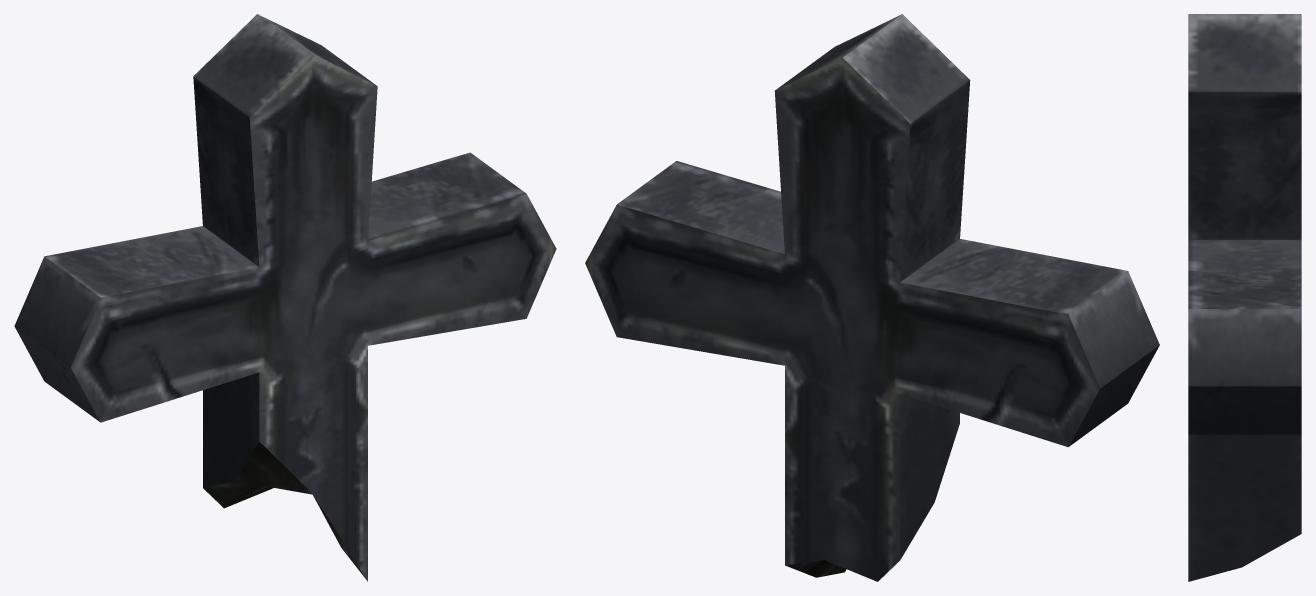
File: C_mubei005.fbx
3 views of the same model, side by side, from view 1: azimuth 30°, elevation 25°; view 2: azimuth 150°, elevation 25°; view 3: azimuth 270°, elevation 25° (orthographic). The views are drawn at different scales.
Parts seen in each view (by area): view 1: C_mubei005; view 2: C_mubei005; view 3: C_mubei005.
Boxes of the visible parts, <box> form: C_mubei005: <box>14,14,556,581</box>; C_mubei005: <box>585,14,1159,581</box>; C_mubei005: <box>1188,14,1301,581</box>.
Bounding box in the file's own units: 86.24 × 91.59 × 17.33.
